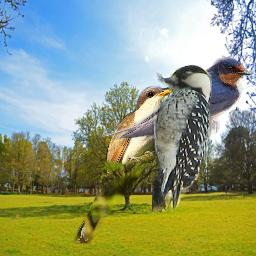Cuckoo: (72, 83, 180, 248)
Swallow: (102, 56, 252, 141)
Woodpecker: (152, 64, 212, 212)
